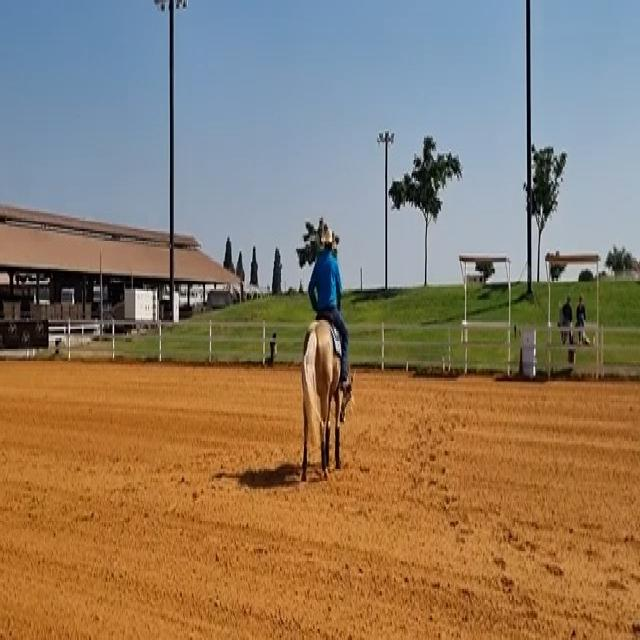horse: (298, 314, 344, 482)
